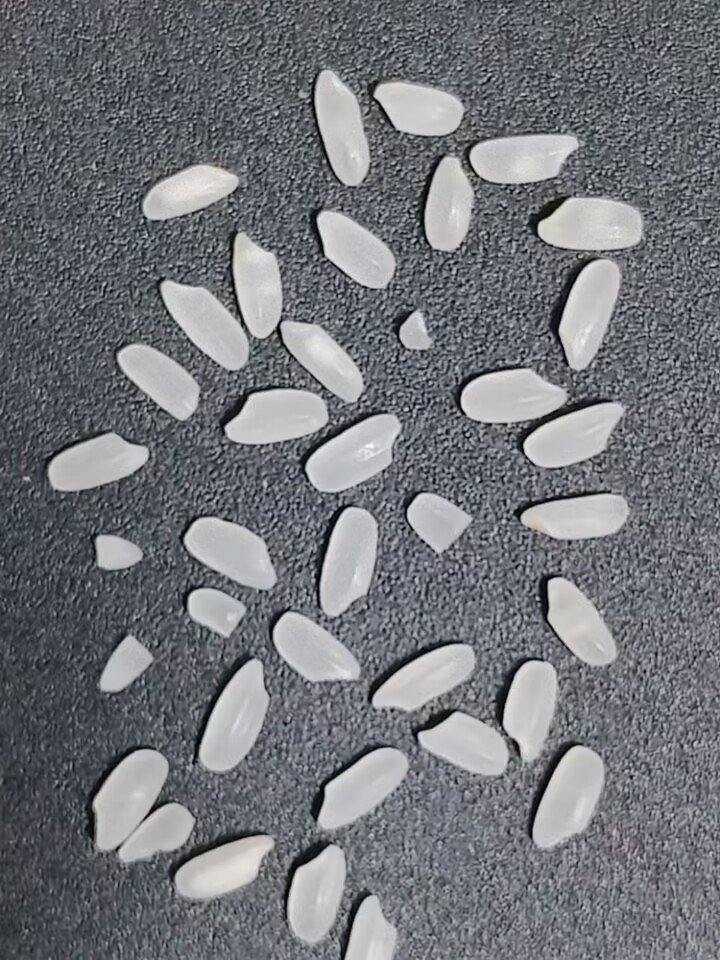broken: (117, 802, 193, 865), (406, 492, 473, 554), (97, 633, 155, 694), (347, 893, 399, 959), (187, 587, 247, 639), (95, 534, 142, 572), (397, 308, 432, 352)
rice: (150, 278, 258, 376), (275, 312, 373, 406), (92, 747, 170, 852), (199, 658, 270, 773), (305, 411, 401, 494), (317, 746, 409, 831), (370, 642, 477, 713), (532, 745, 605, 849), (280, 839, 350, 947), (558, 258, 621, 370), (498, 654, 561, 766), (183, 516, 276, 591), (523, 401, 625, 469), (173, 833, 276, 900), (318, 505, 379, 618), (313, 69, 371, 187), (115, 342, 201, 421), (316, 208, 397, 291), (226, 225, 284, 339), (459, 365, 568, 425), (272, 611, 361, 684), (546, 576, 617, 667), (47, 432, 150, 493), (417, 710, 508, 777), (223, 389, 330, 445), (537, 196, 643, 251), (469, 133, 580, 185), (142, 163, 240, 220), (520, 493, 629, 541), (373, 81, 464, 138), (424, 155, 474, 251)
